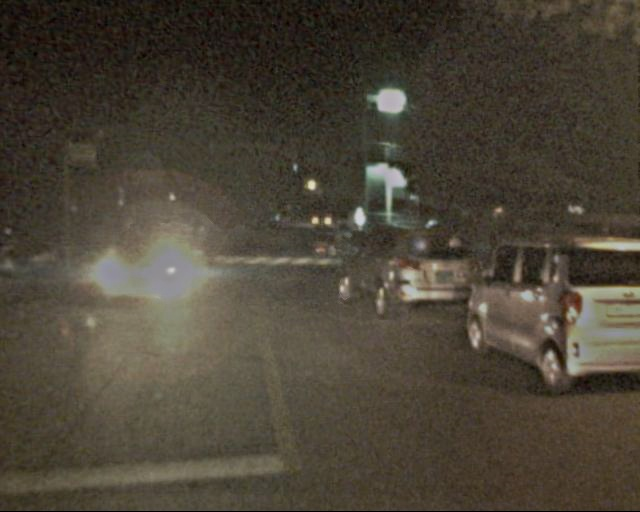person: (343, 215, 370, 270)
